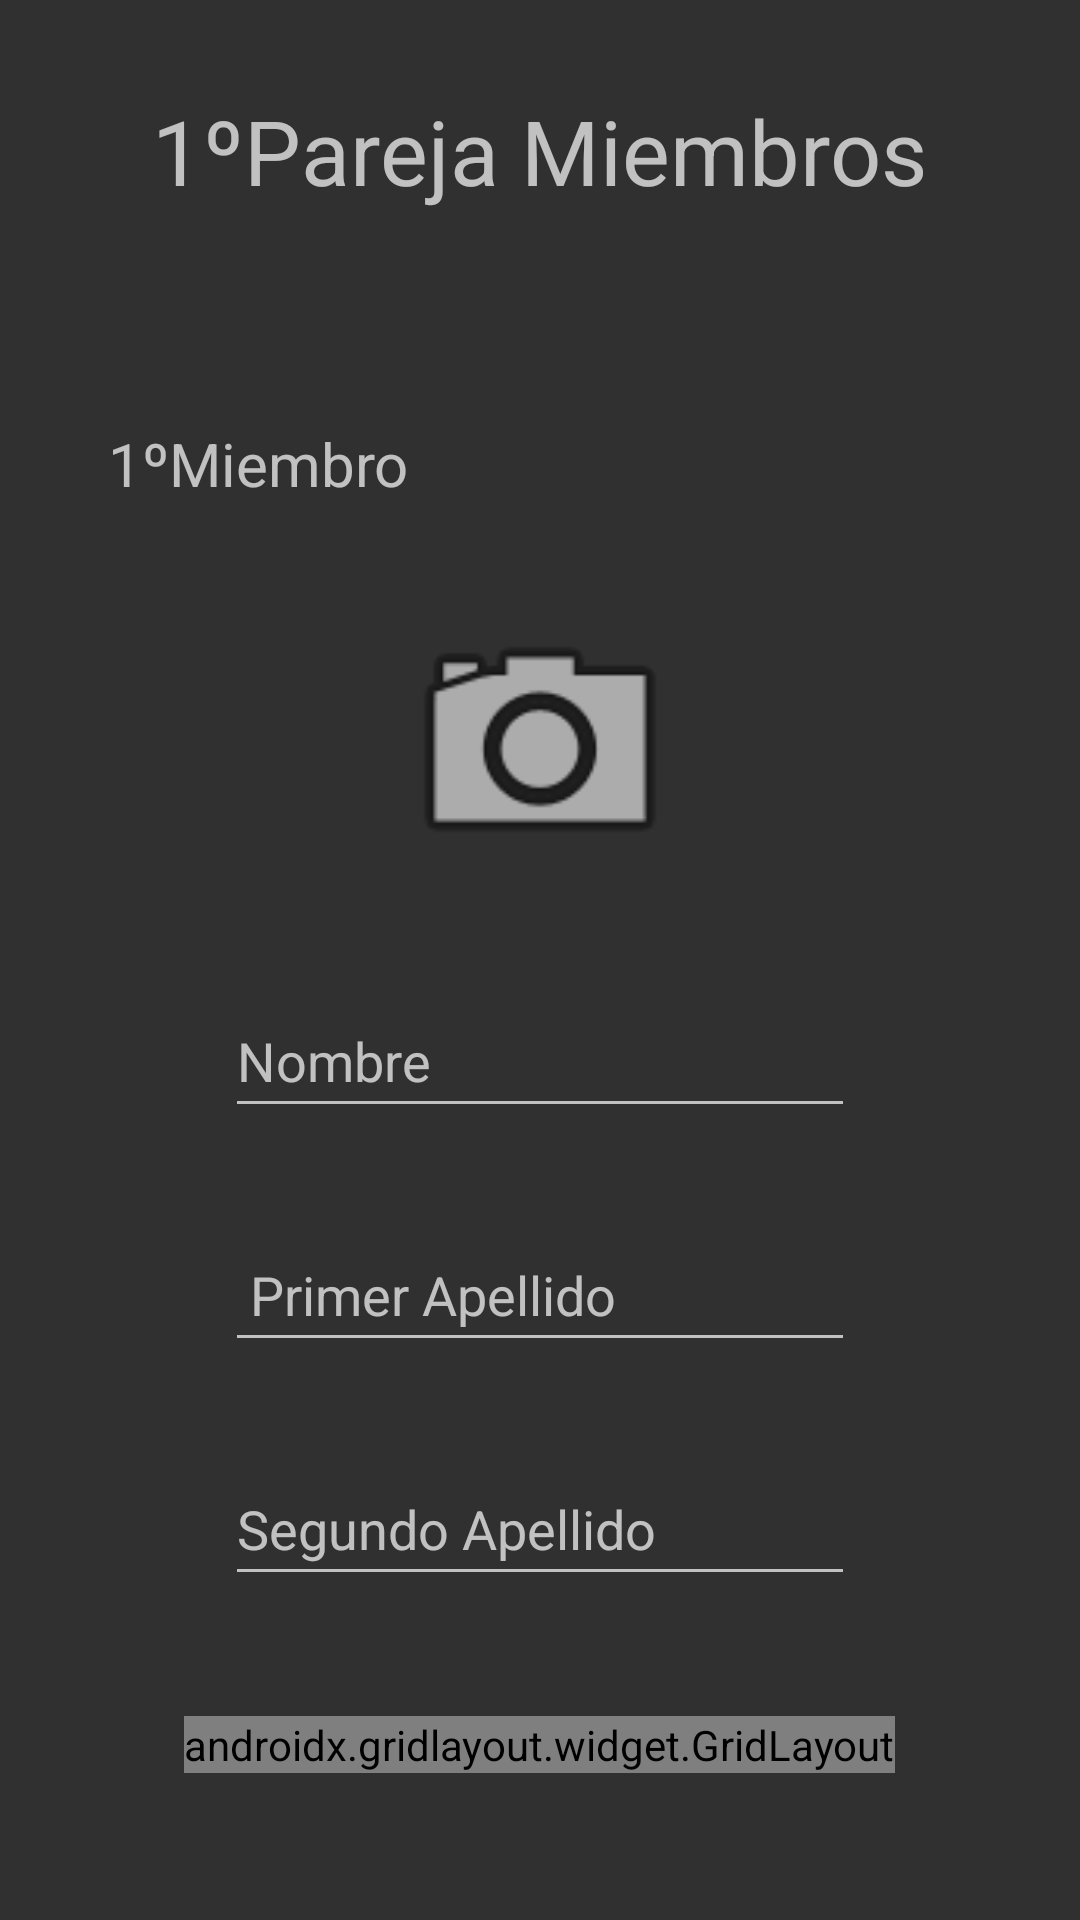

Icons on this 1080×1920 Android screen, each with its box as (x1, y1, x2, y2):
camera: (434, 657, 646, 822)
